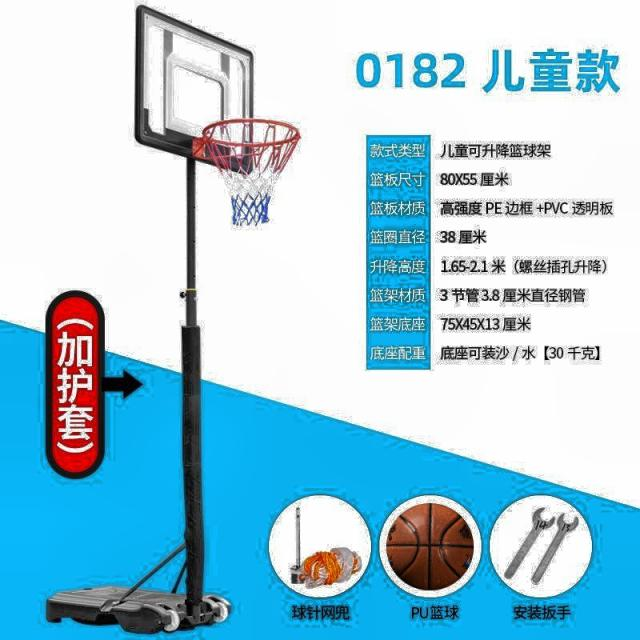board: (384, 502, 475, 591)
rim: (202, 119, 301, 228)
